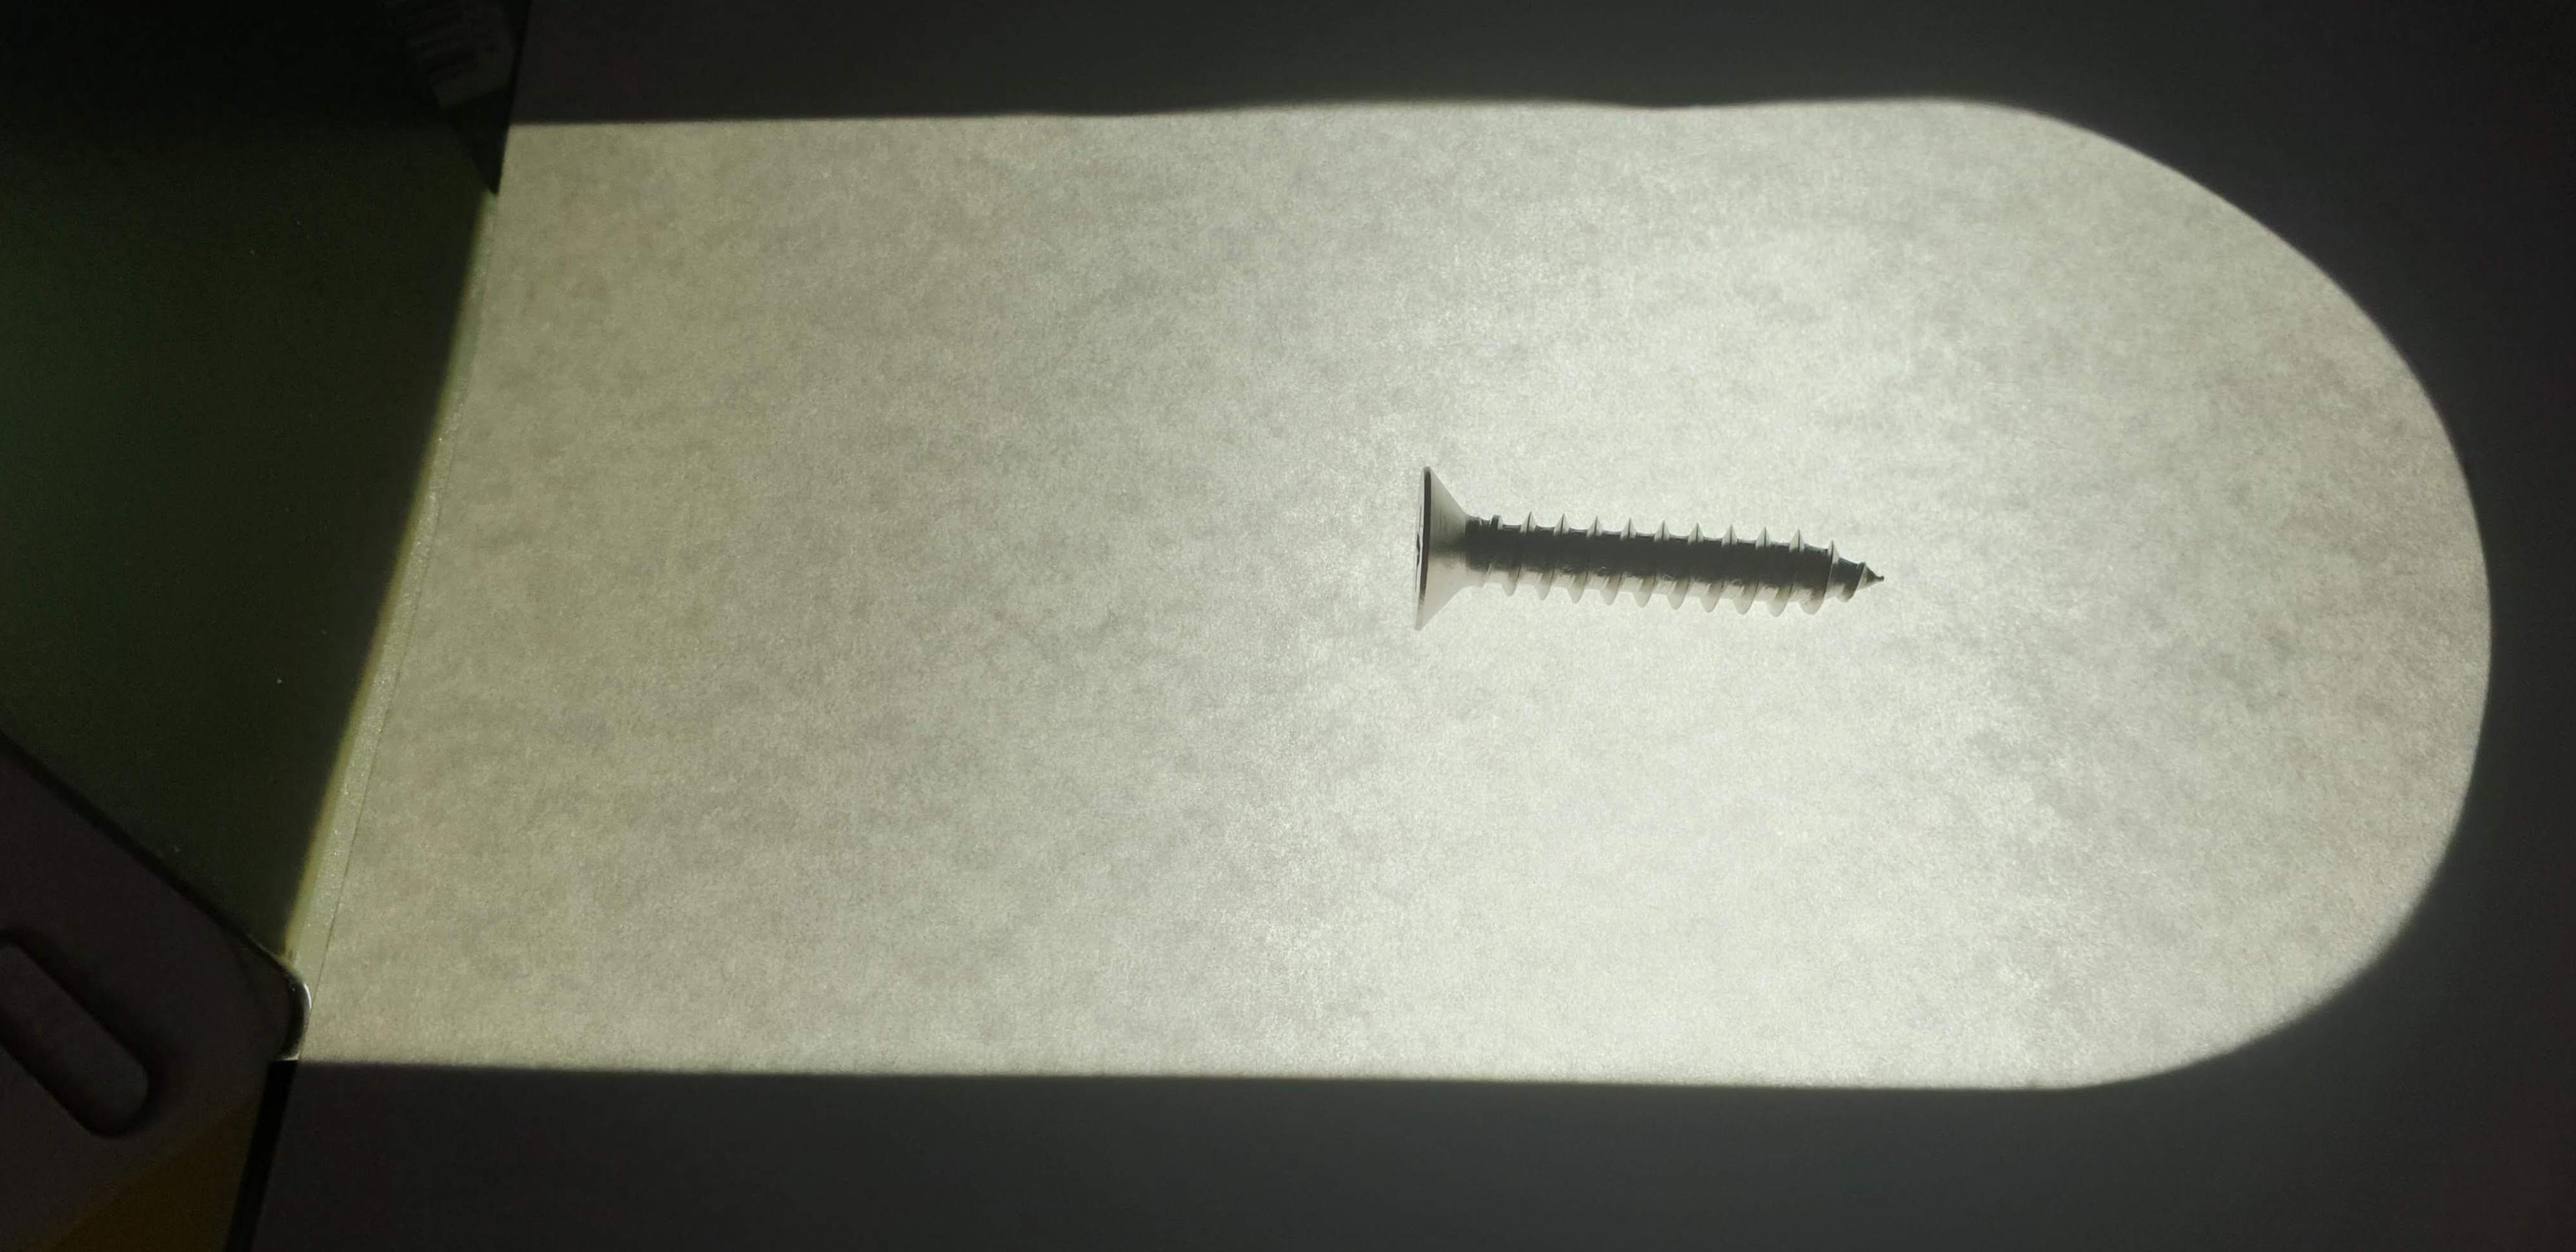S004: (1341, 440, 1963, 670)
